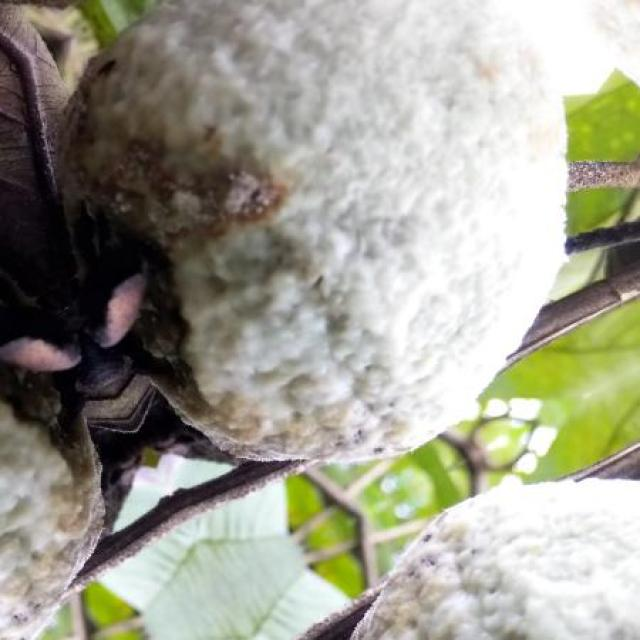Phytopthora: (60, 0, 565, 459), (351, 479, 640, 639), (0, 400, 104, 639)
